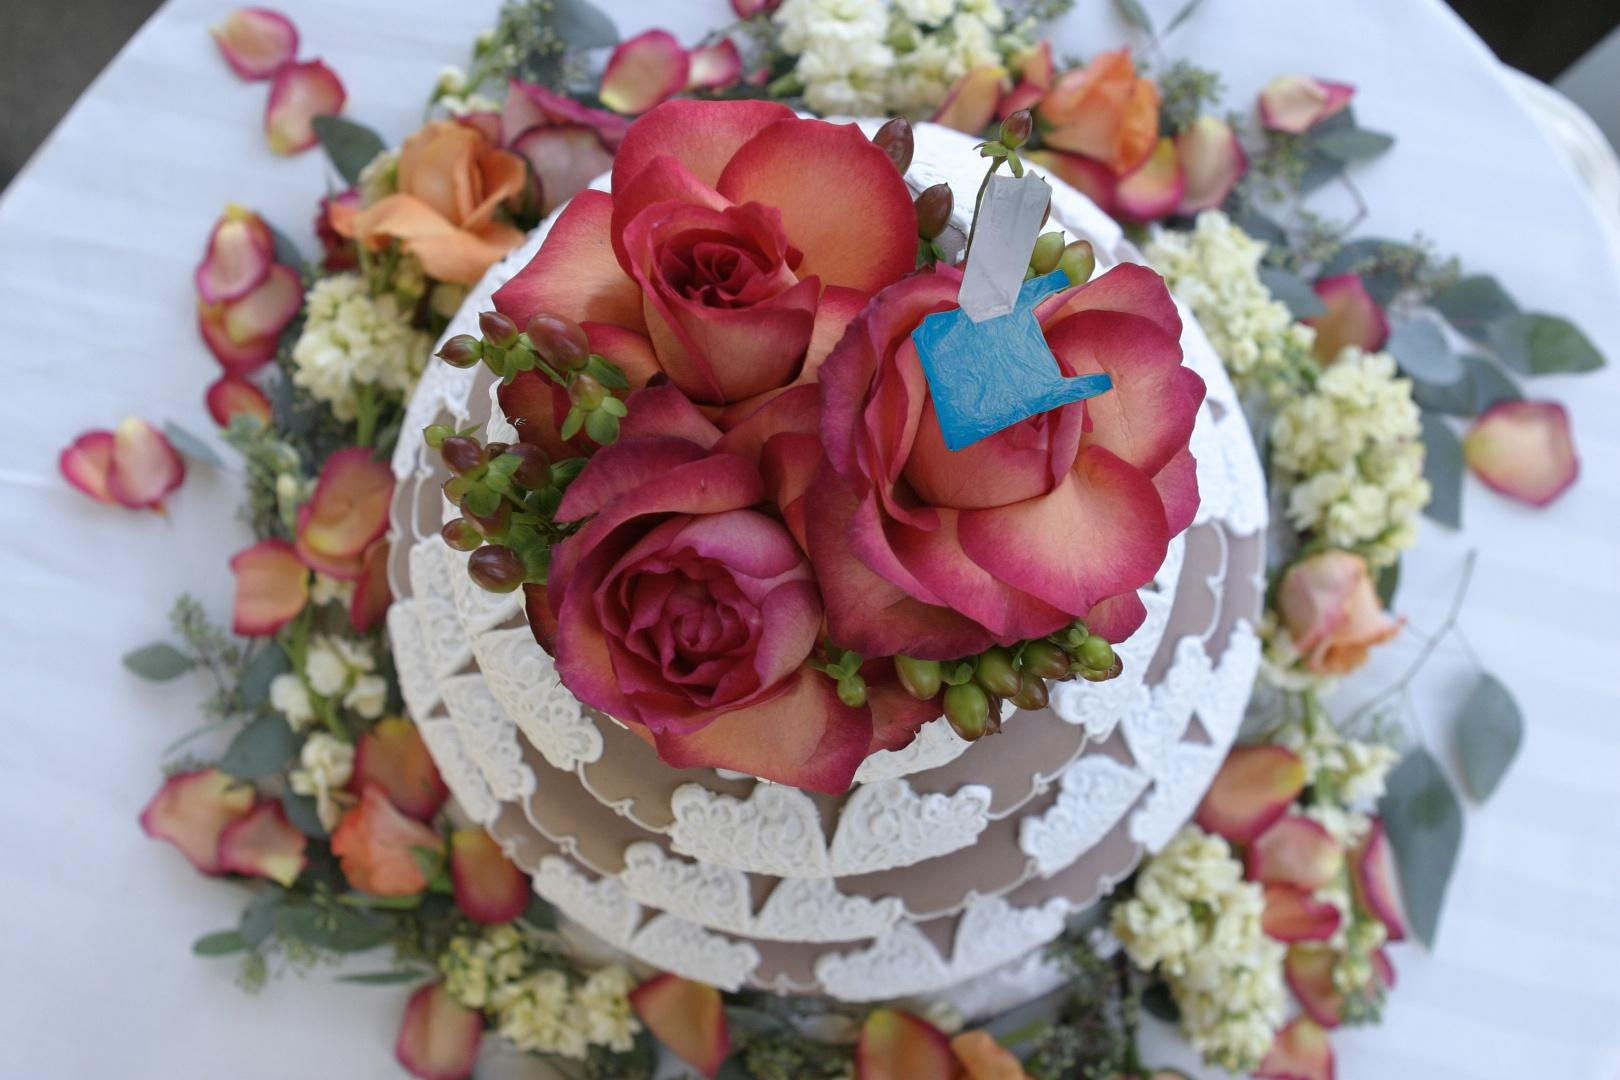plastic-bag: (909, 168, 1115, 459)
